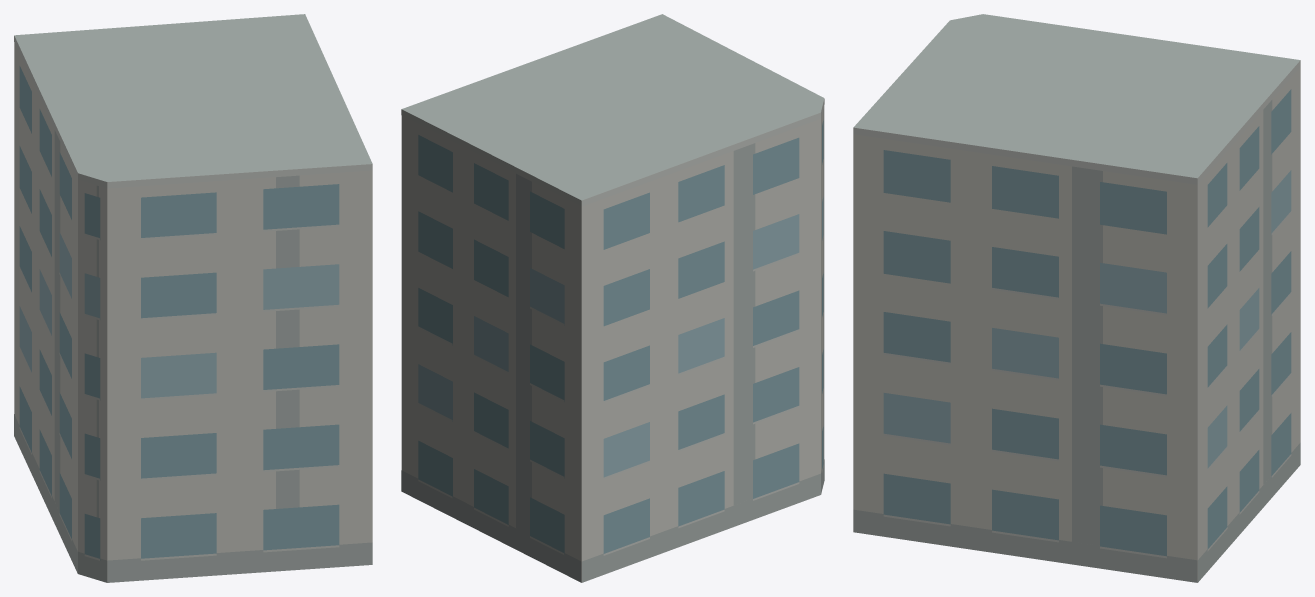
The model's file is survey-upis-33045592.glb.
The picture shows the model from 3 angles, left to right: view 1: azimuth 30°, elevation 25°; view 2: azimuth 150°, elevation 25°; view 3: azimuth 270°, elevation 25°; orthographic projection. The views are drawn at different scales.
Parts seen in each view (by area): view 1: survey-upis-33045592.tmp; view 2: survey-upis-33045592.tmp; view 3: survey-upis-33045592.tmp.
Boxes of the visible parts, <box> form: survey-upis-33045592.tmp: <box>14,14,372,582</box>; survey-upis-33045592.tmp: <box>401,14,824,582</box>; survey-upis-33045592.tmp: <box>853,14,1300,582</box>.
Bounding box in the file's own units: 12.9 × 14.81 × 14.85.
